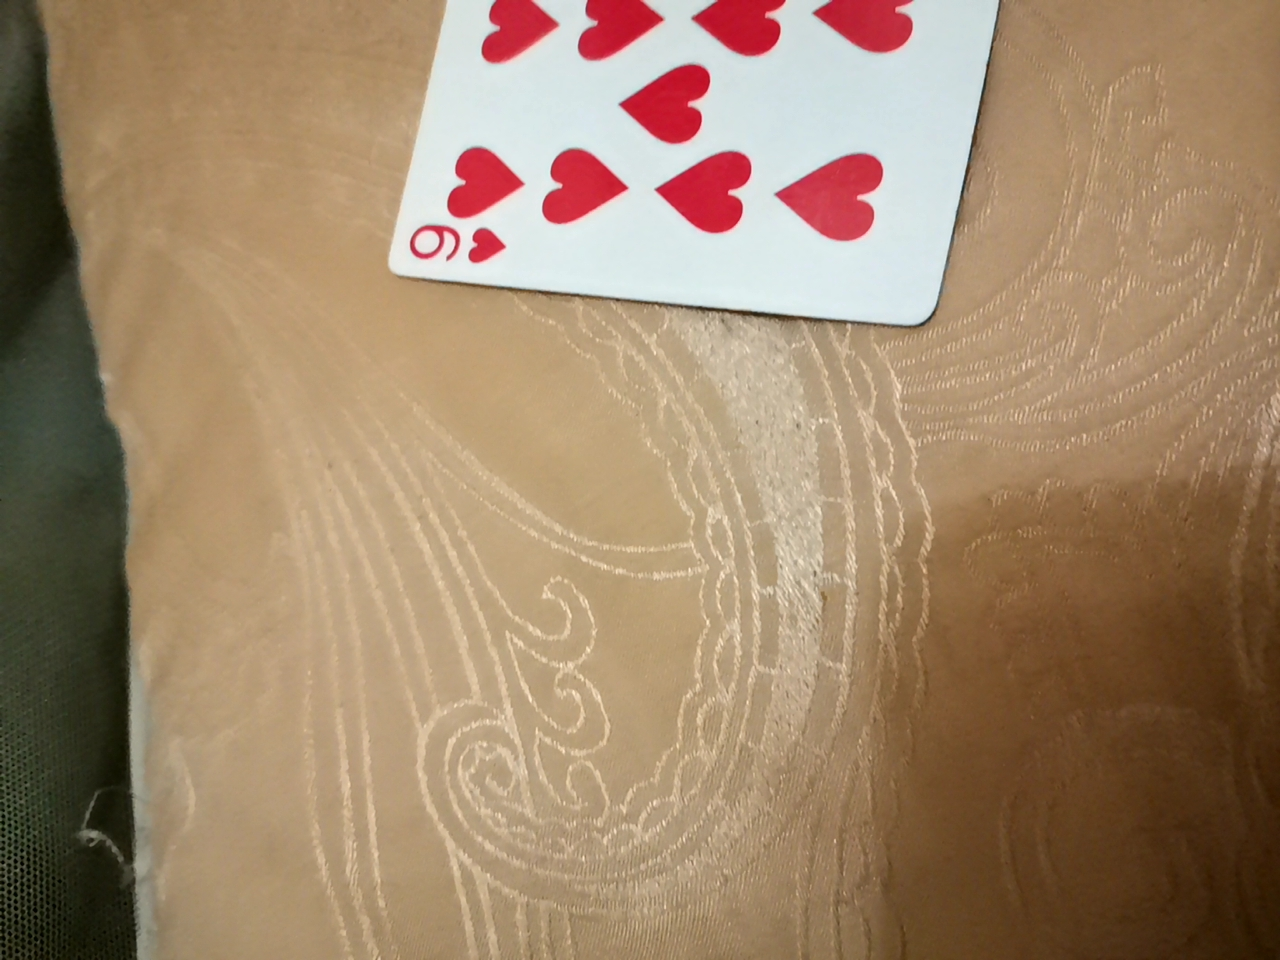hx 9: (412, 4, 1037, 361)
